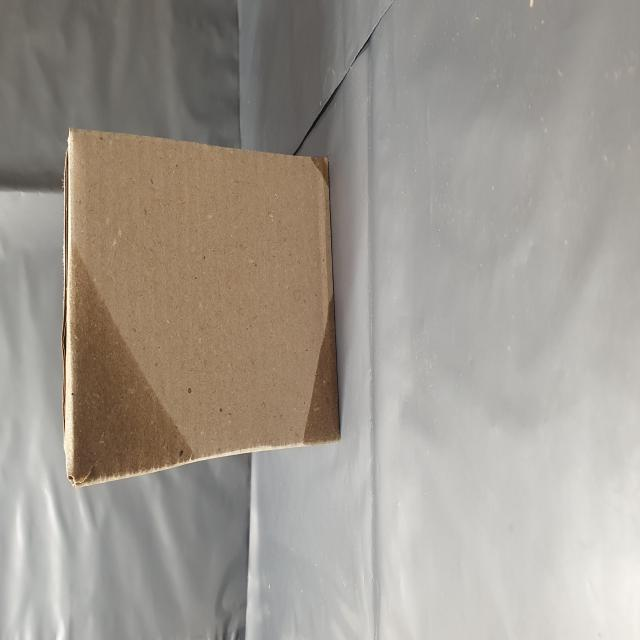wet: (77, 87, 223, 371), (107, 522, 190, 622)
